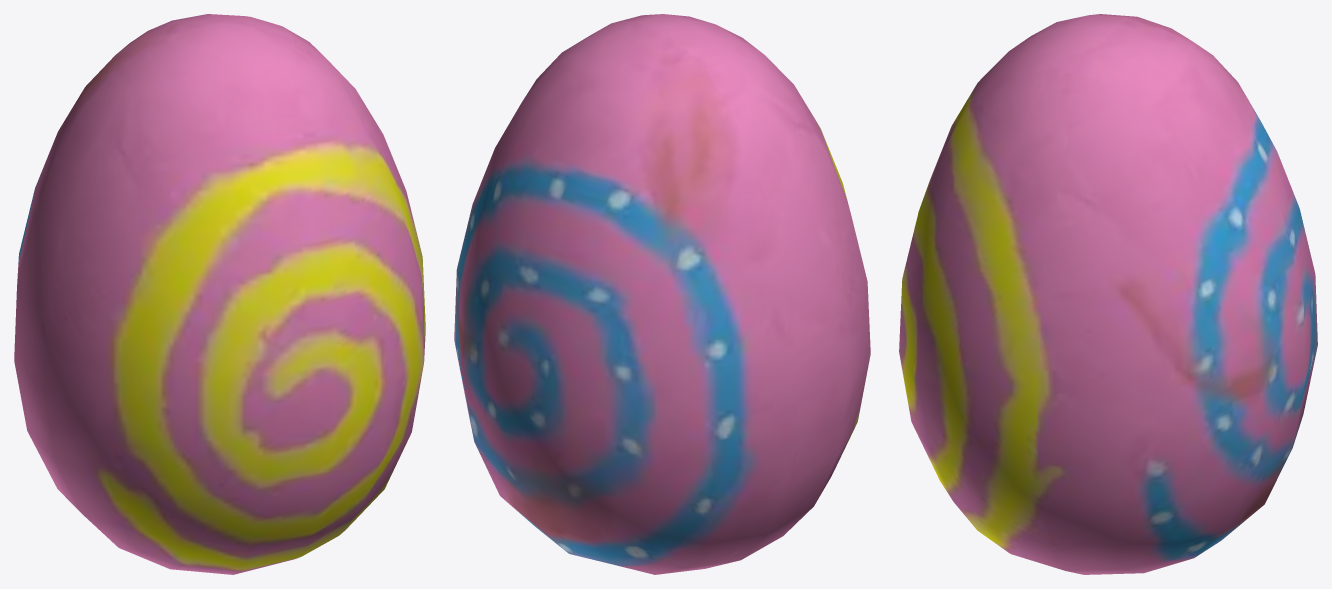
Rendered from paintedegg3.glb.
3 views of the same model, side by side, from view 1: azimuth 30°, elevation 25°; view 2: azimuth 150°, elevation 25°; view 3: azimuth 270°, elevation 25° (orthographic).
Visible parts, largest first — view 1: PaintedEgg3; view 2: PaintedEgg3; view 3: PaintedEgg3.
Part boxes in pixels (box(x1,y1,x2,y2)): PaintedEgg3: box(14, 14, 425, 574); PaintedEgg3: box(454, 14, 870, 574); PaintedEgg3: box(899, 14, 1317, 574).
Size of the model in its own units: 0.2314 by 0.3238 by 0.2314.
1 material, 1 textured.
